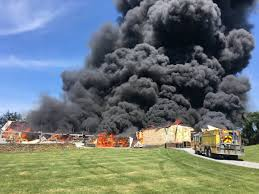smoke: (34, 2, 254, 129)
